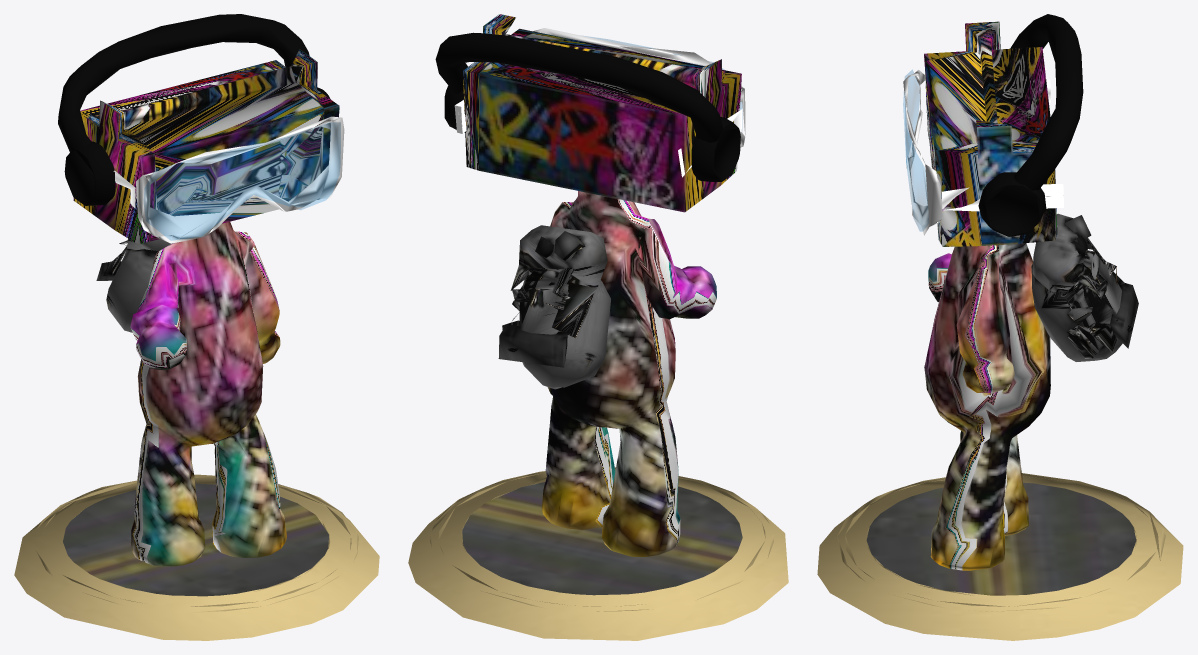
3 views of the same model, side by side, from view 1: azimuth 30°, elevation 25°; view 2: azimuth 150°, elevation 25°; view 3: azimuth 270°, elevation 25° (orthographic). The views are drawn at different scales.
Size of the model in its own units: 1.44 by 2.21 by 1.42.
9 materials, 5 textured.
